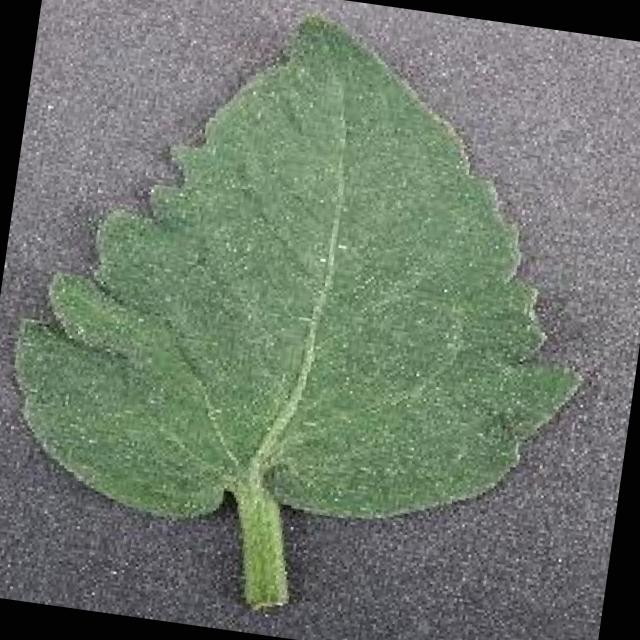healthy: (9, 12, 583, 600)
